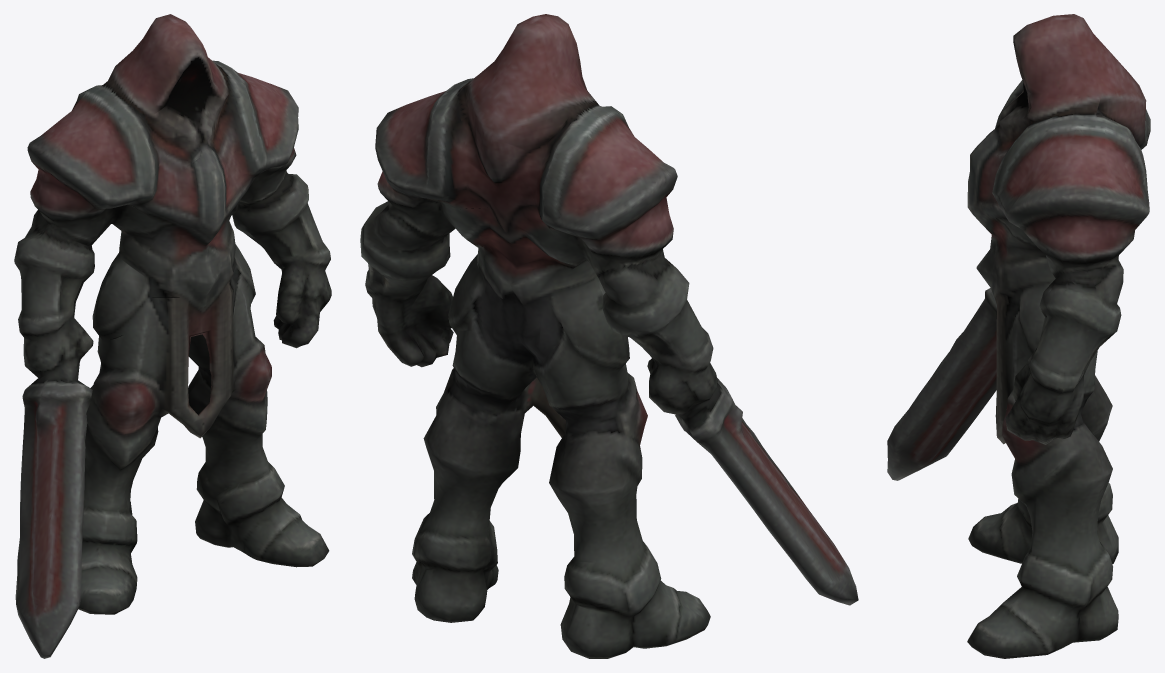
File: blood_sentinel_v2.glb
The picture shows the model from 3 angles, left to right: view 1: azimuth 30°, elevation 25°; view 2: azimuth 150°, elevation 25°; view 3: azimuth 270°, elevation 25°; orthographic projection. The views are drawn at different scales.
Visible parts, largest first — view 1: blood-sentinel-m0-4000-v1; view 2: blood-sentinel-m0-4000-v1; view 3: blood-sentinel-m0-4000-v1.
Part boxes in pixels (x1,y1,x2,y2): blood-sentinel-m0-4000-v1: [14, 14, 331, 658]; blood-sentinel-m0-4000-v1: [360, 14, 858, 658]; blood-sentinel-m0-4000-v1: [887, 14, 1150, 658].
Bounding box in the file's own units: 0.707 × 1 × 0.4139.
Materials: 1 (1 with a texture image).
